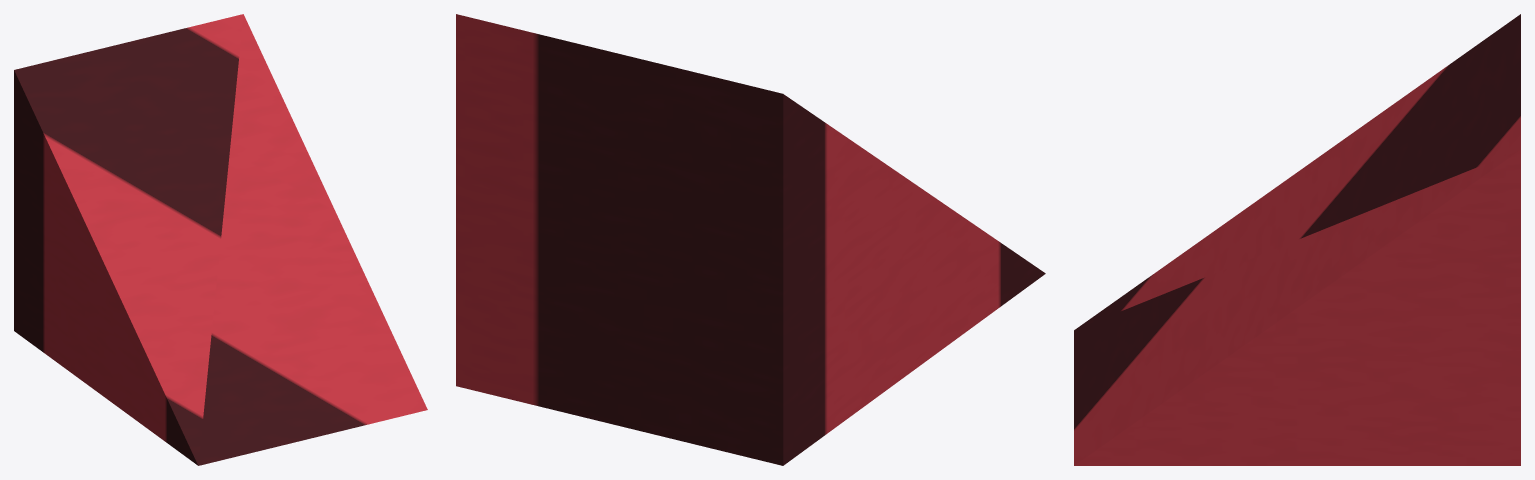
3 renders of one model, left to right at view 1: azimuth 30°, elevation 25°; view 2: azimuth 150°, elevation 25°; view 3: azimuth 270°, elevation 25°, orthographic. The views are drawn at different scales.
Parts seen in each view (by area): view 1: geometry_0; view 2: geometry_0; view 3: geometry_0.
Part boxes in pixels (x1,y1,x2,y2): geometry_0: (14,14,427,465); geometry_0: (456,14,1045,465); geometry_0: (1074,14,1520,465).
Bounding box in the file's own units: 1.3 × 1.42 × 1.81.
1 material, 1 textured.
